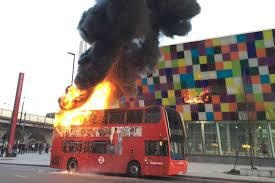fire: (54, 79, 114, 128), (181, 86, 209, 104)
